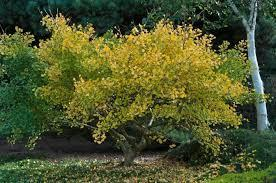tree: (33, 8, 253, 169)
